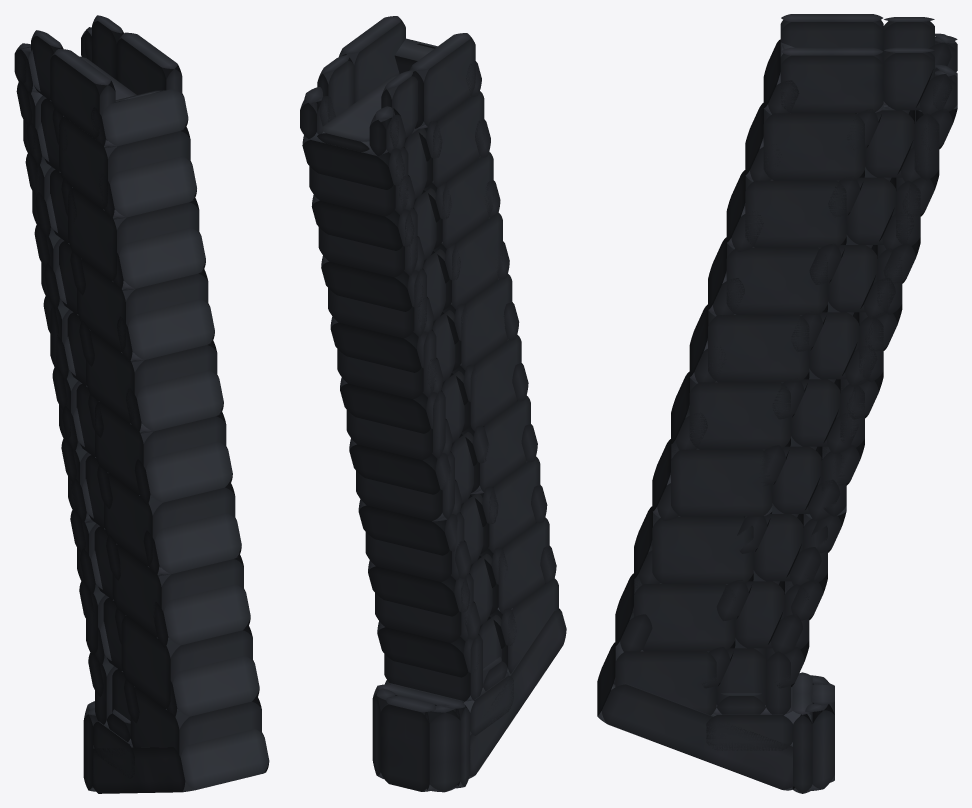
Rendered from deagle_357_mag_extended.fbx.
3 renders of one model, left to right at view 1: azimuth 30°, elevation 25°; view 2: azimuth 150°, elevation 25°; view 3: azimuth 270°, elevation 25°, orthographic. The views are drawn at different scales.
Parts seen in each view (by area): view 1: cube_2, cube_75, cube_28, cube_29, cube_27, cube_26, cube_25, cube_49, cube_68, cube_23, cube_33, cube_35 (+42 smaller); view 2: cube_3, cube_2, cube_30, cube_27, cube_28, cube_29, cube_75, cube_26, cube_25, cube_22, cube_68, cube_8 (+51 smaller); view 3: cube_2, cube_29, cube_26, cube_28, cube_25, cube_49, cube_56, cube_27, cube_68, cube_75, cube_23, cube_30 (+56 smaller).
Boxes of the visible parts, x1,y1,x2,y2 form: cube_2: [91, 729, 269, 793]; cube_75: [121, 615, 252, 708]; cube_28: [68, 187, 199, 280]; cube_29: [59, 116, 190, 209]; cube_27: [77, 259, 208, 352]; cube_26: [86, 330, 217, 423]; cube_25: [95, 401, 226, 494]; cube_49: [104, 473, 235, 567]; cube_68: [112, 544, 243, 637]; cube_23: [130, 687, 261, 757]; cube_33: [126, 370, 223, 433]; cube_35: [117, 299, 214, 362]; cube_3: [380, 695, 435, 791]; cube_2: [463, 607, 566, 778]; cube_30: [409, 33, 475, 128]; cube_27: [433, 212, 502, 310]; cube_28: [424, 152, 493, 249]; cube_29: [424, 91, 484, 188]; cube_75: [480, 517, 549, 614]; cube_26: [442, 274, 512, 371]; cube_25: [452, 334, 521, 431]; cube_22: [302, 131, 404, 189]; cube_68: [470, 456, 540, 553]; cube_8: [346, 383, 445, 460]; cube_2: [597, 641, 811, 790]; cube_29: [763, 72, 864, 180]; cube_26: [708, 273, 809, 382]; cube_28: [745, 138, 846, 247]; cube_25: [689, 340, 790, 449]; cube_49: [671, 407, 772, 516]; cube_56: [780, 47, 883, 113]; cube_27: [726, 206, 827, 314]; cube_68: [652, 475, 753, 583]; cube_75: [634, 545, 735, 651]; cube_23: [615, 610, 716, 715]; cube_30: [780, 14, 883, 56].
Size of the model in its own units: 14.08 by 114 by 50.43.
Materials: 1 (1 with a texture image).
